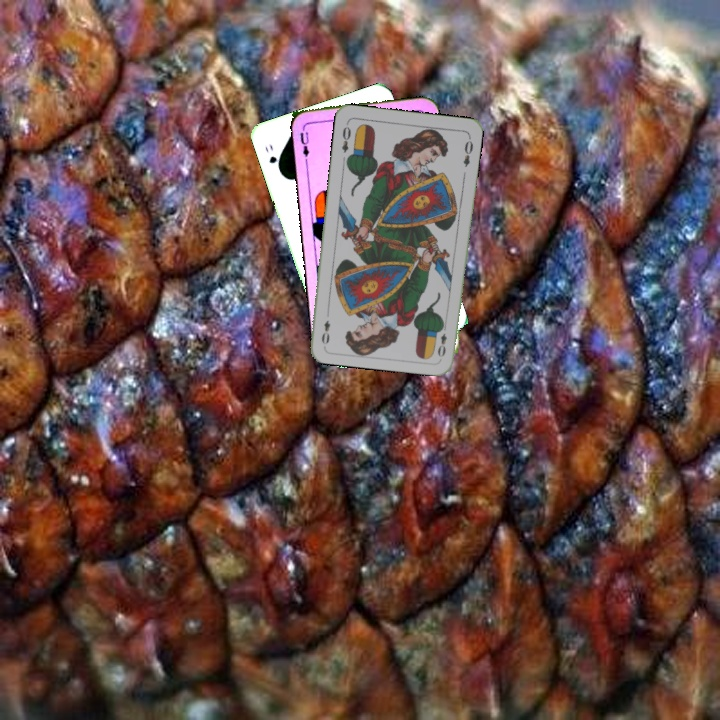EO: (337, 119, 354, 155), (434, 320, 449, 360)
EU: (296, 123, 312, 164)
GO: (261, 140, 283, 174)
